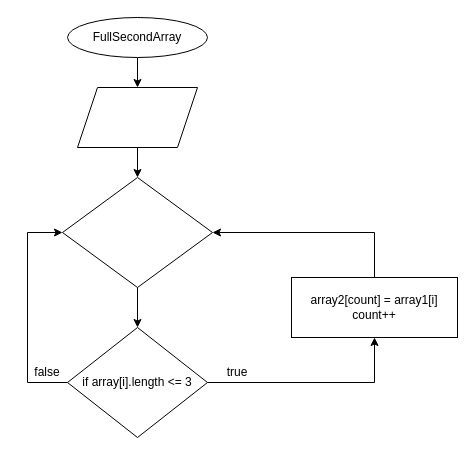
The diagram is 475 pixels wide and 455 high, and some of its shapes have lost their labels. The shapes that lost their labels are listed below. From the top down, each one's centre as x and y in pixels, then its label:
(x=137, y=117): string[] array1 string[] array2 int count = 0
(x=137, y=232): for (int i = 0; i < array1.length; i++)
